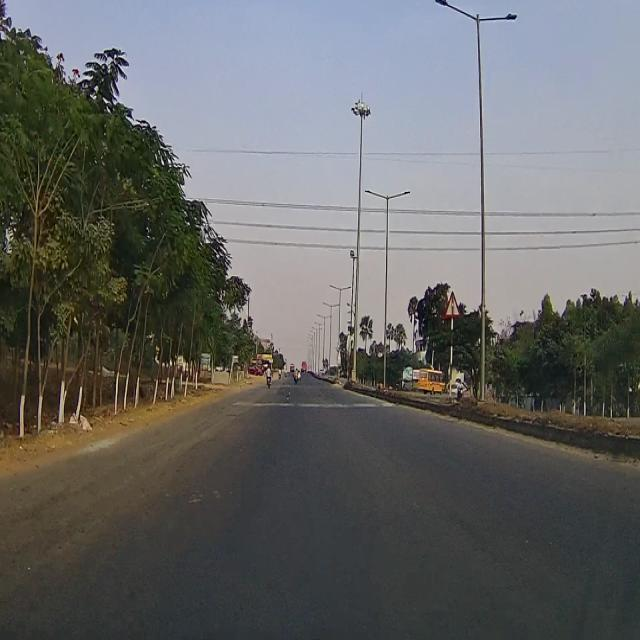gap-in-median: (446, 290, 459, 317)
